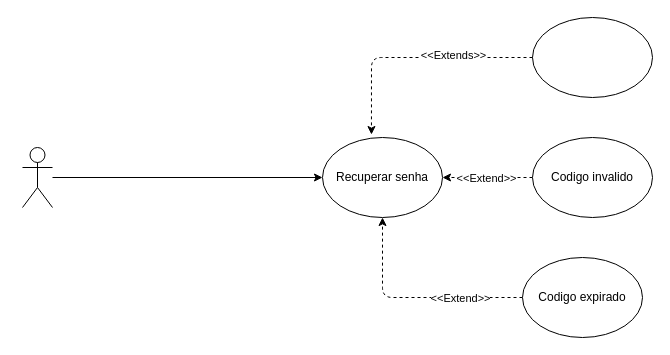
Some shapes in this 670 by 355 pixel diagram are drawn without their labels. The shapes that lost their labels are listed below. From the top down, each one's centre as x and y in pixels, then its label:
point (592, 57): usuário não encotrado
point (37, 177): Usuário
